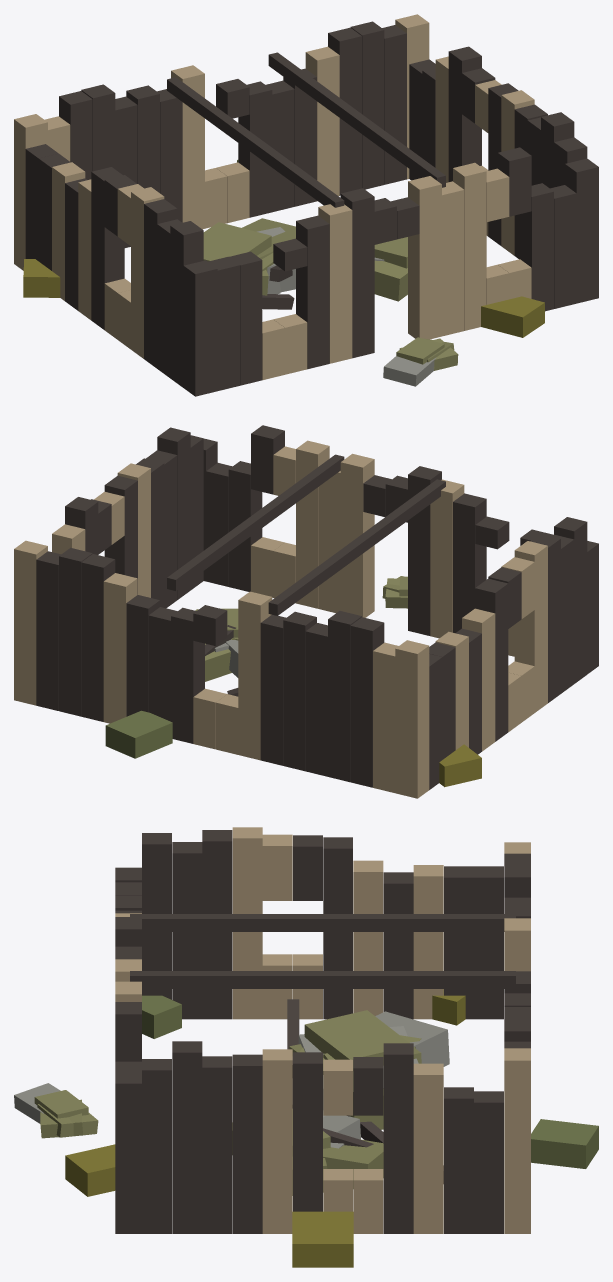
File: SM_CasaRuina_v3_Quemada_LOD0.fbx
3 renders of one model, top to bottom at view 1: azimuth 30°, elevation 25°; view 2: azimuth 150°, elevation 25°; view 3: azimuth 270°, elevation 25°, orthographic. The views are drawn at different scales.
Parts seen in each view (by area): view 1: SM_casa_ruina_v3_LOD0; view 2: SM_casa_ruina_v3_LOD0; view 3: SM_casa_ruina_v3_LOD0.
Part boxes in pixels (x1,y1,x2,y2): SM_casa_ruina_v3_LOD0: (14, 14, 598, 396); SM_casa_ruina_v3_LOD0: (14, 425, 598, 798); SM_casa_ruina_v3_LOD0: (14, 827, 598, 1267).
Bounding box in the file's own units: 10.96 × 3.59 × 9.85.
